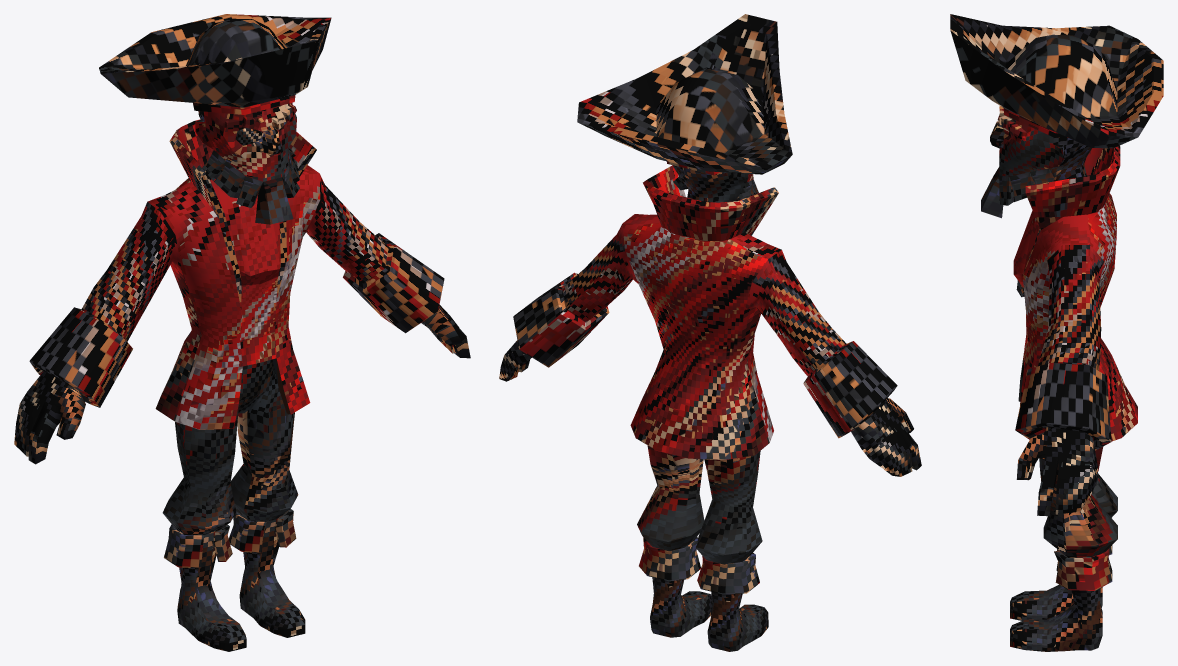
The model's file is pirate.fbx.
The picture shows the model from 3 angles, left to right: view 1: azimuth 30°, elevation 25°; view 2: azimuth 150°, elevation 25°; view 3: azimuth 270°, elevation 25°; orthographic projection. The views are drawn at different scales.
Visible parts, largest first — view 1: Pirate_Mesh_lambert2_0, Pirate_Hat_Mesh_lambert2_0; view 2: Pirate_Mesh_lambert2_0, Pirate_Hat_Mesh_lambert2_0; view 3: Pirate_Mesh_lambert2_0, Pirate_Hat_Mesh_lambert2_0.
Boxes of the visible parts, x1,y1,x2,y2 form: Pirate_Mesh_lambert2_0: (14,103,470,651); Pirate_Hat_Mesh_lambert2_0: (99,14,331,114); Pirate_Mesh_lambert2_0: (499,165,921,651); Pirate_Hat_Mesh_lambert2_0: (577,14,792,175); Pirate_Mesh_lambert2_0: (981,106,1137,651); Pirate_Hat_Mesh_lambert2_0: (950,14,1163,148).
Size of the model in its own units: 7386 by 10022 by 3193.
1 material, 1 textured.
